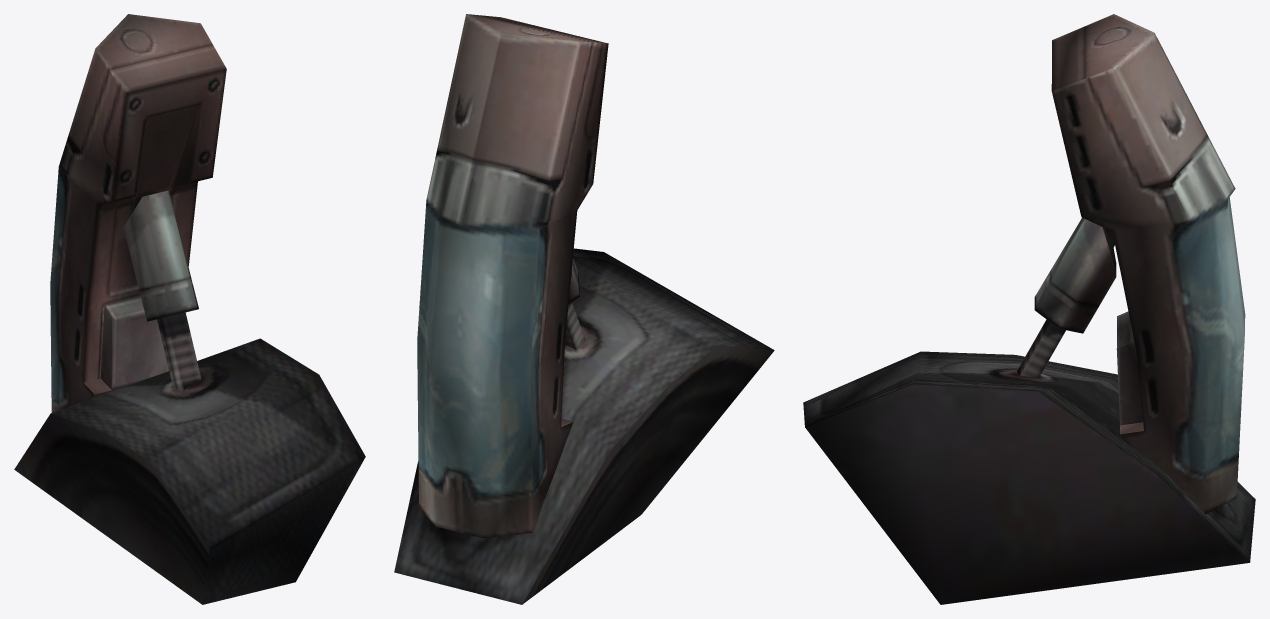
The model's file is LAMP.glb.
The picture shows the model from 3 angles, left to right: view 1: azimuth 30°, elevation 25°; view 2: azimuth 150°, elevation 25°; view 3: azimuth 270°, elevation 25°; orthographic projection. The views are drawn at different scales.
Visible parts, largest first — view 1: Box03; view 2: Box03; view 3: Box03.
Part boxes in pixels (x1,y1,x2,y2): Box03: (14, 14, 365, 604); Box03: (394, 14, 774, 604); Box03: (803, 14, 1255, 604).
Bounding box in the file's own units: 3.28 × 9.68 × 7.37.
1 material, 1 textured.
